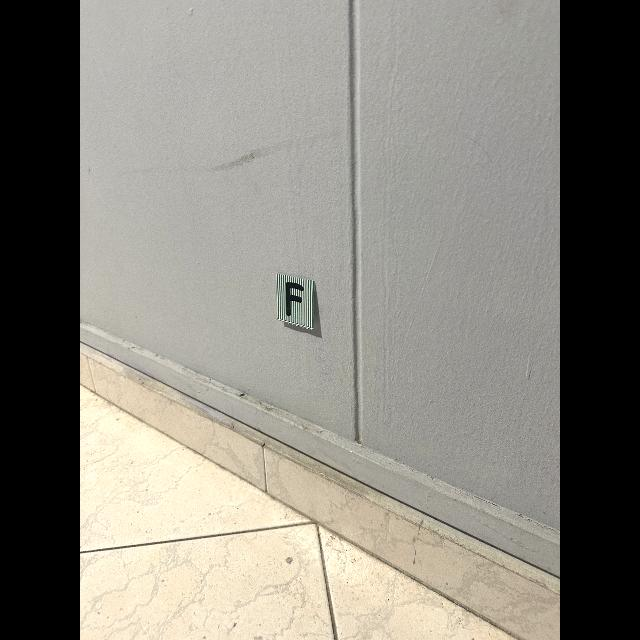F: (286, 282, 305, 317)
